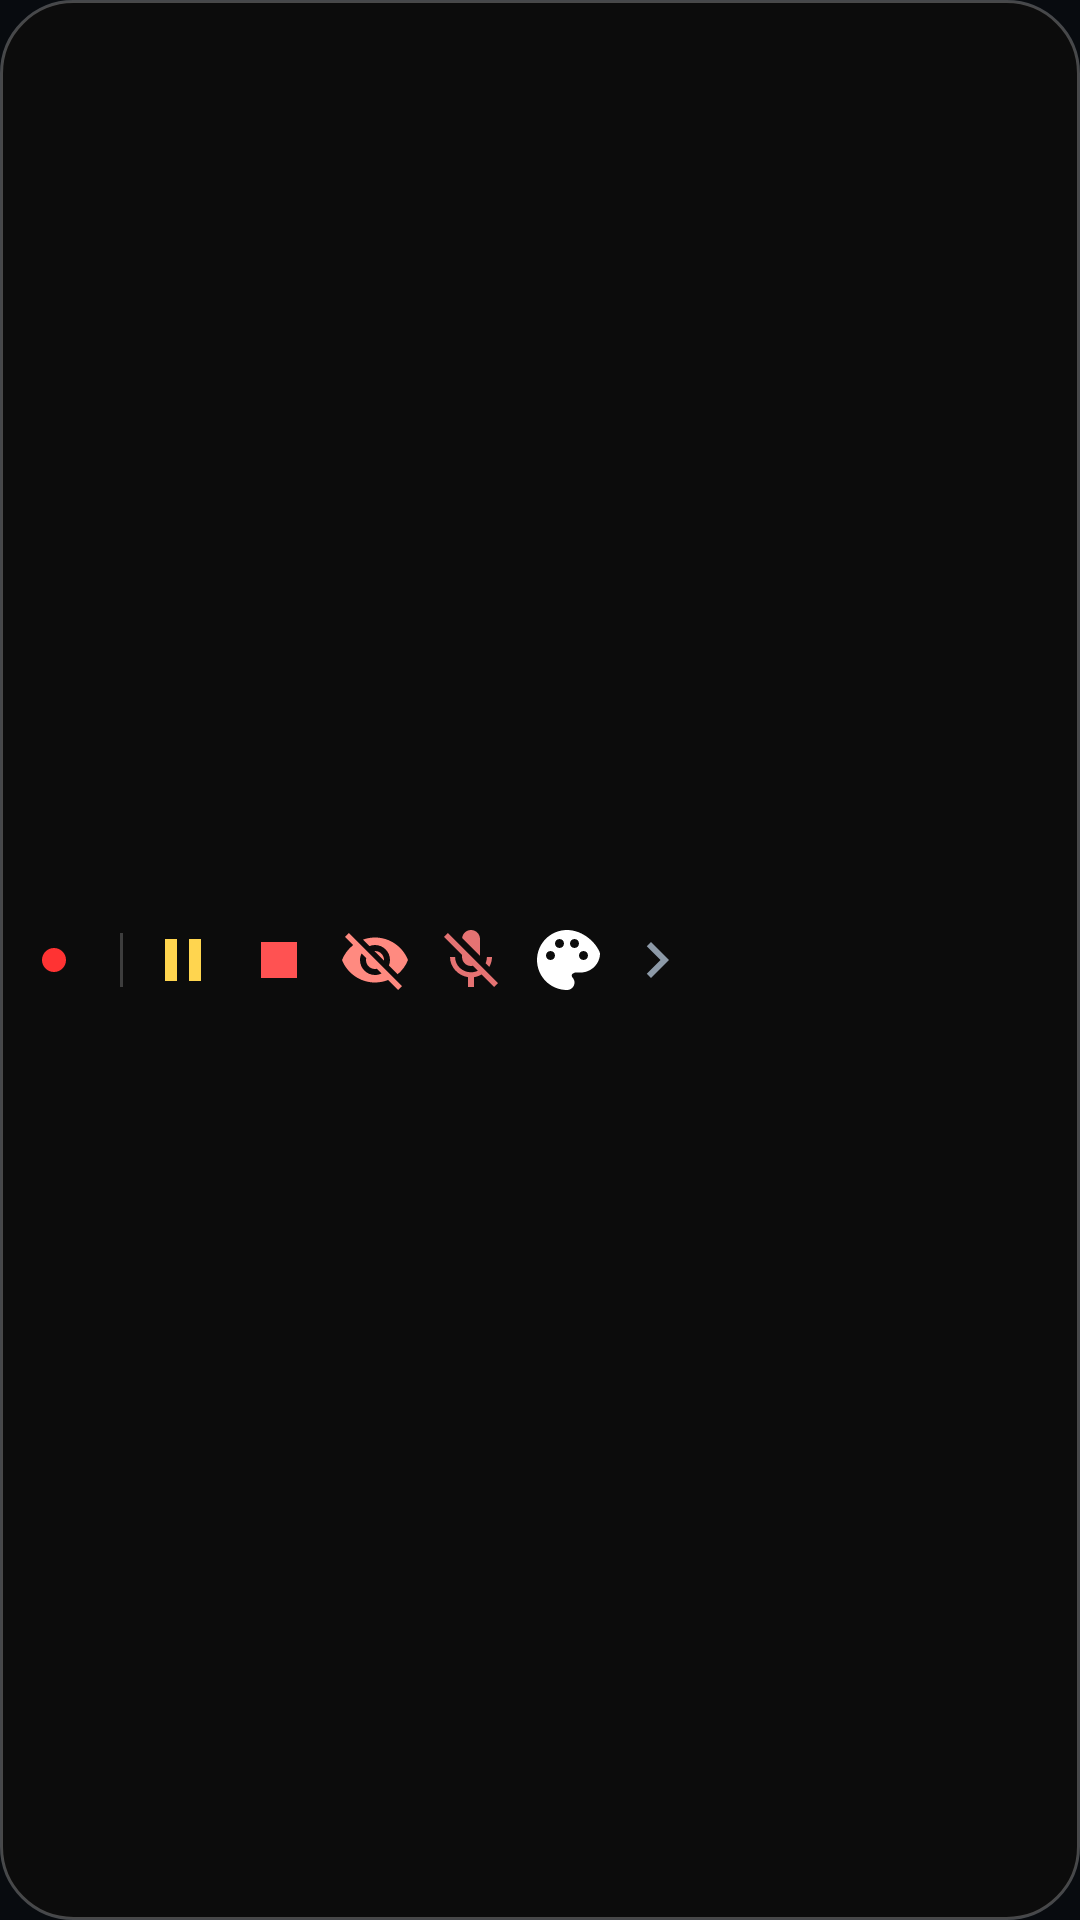

Icons on this 1080px x 1920px Android screen, each with the point to tap as point (x, y):
Exclude On-Screen Controls: point (375, 961)
Microphone Audio: point (471, 958)
Pause: point (183, 960)
record dot: point (54, 960)
